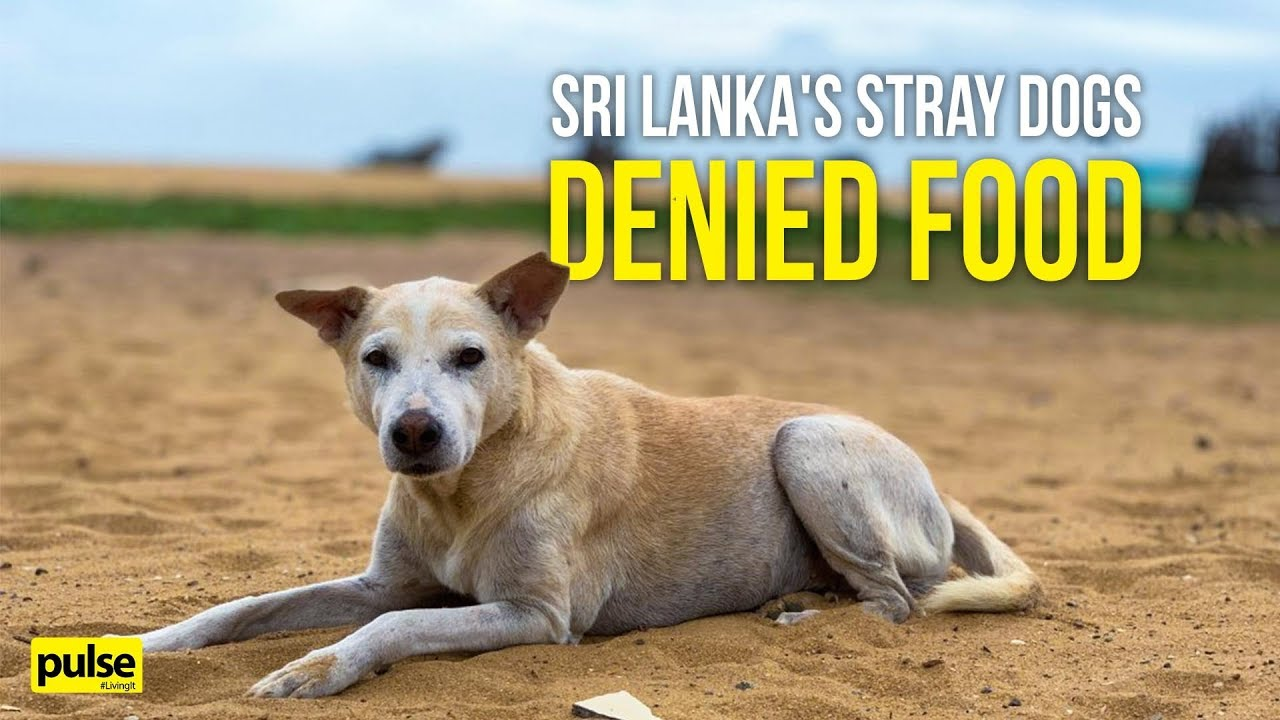Dog: (251, 266, 1059, 696)
